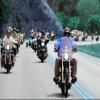motorcycles: (53, 47, 74, 94), (3, 43, 15, 73), (38, 38, 48, 62)
